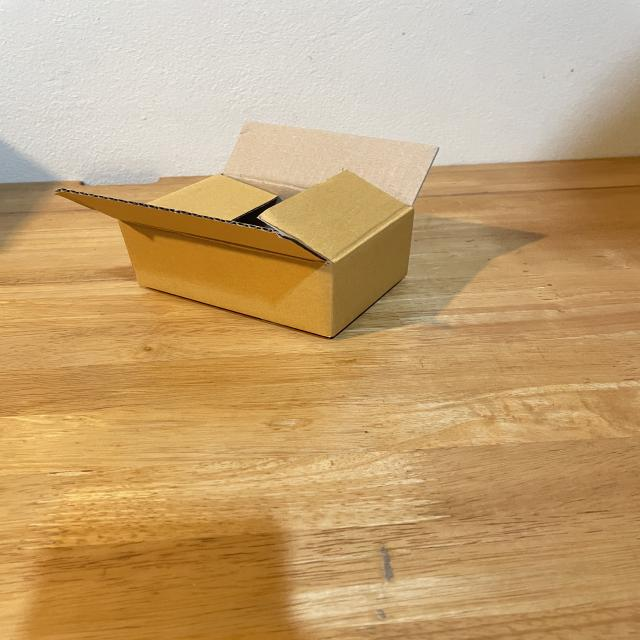box: (56, 119, 440, 339)
opened: (57, 120, 441, 264)
